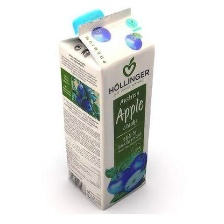carton: (54, 5, 158, 213)
